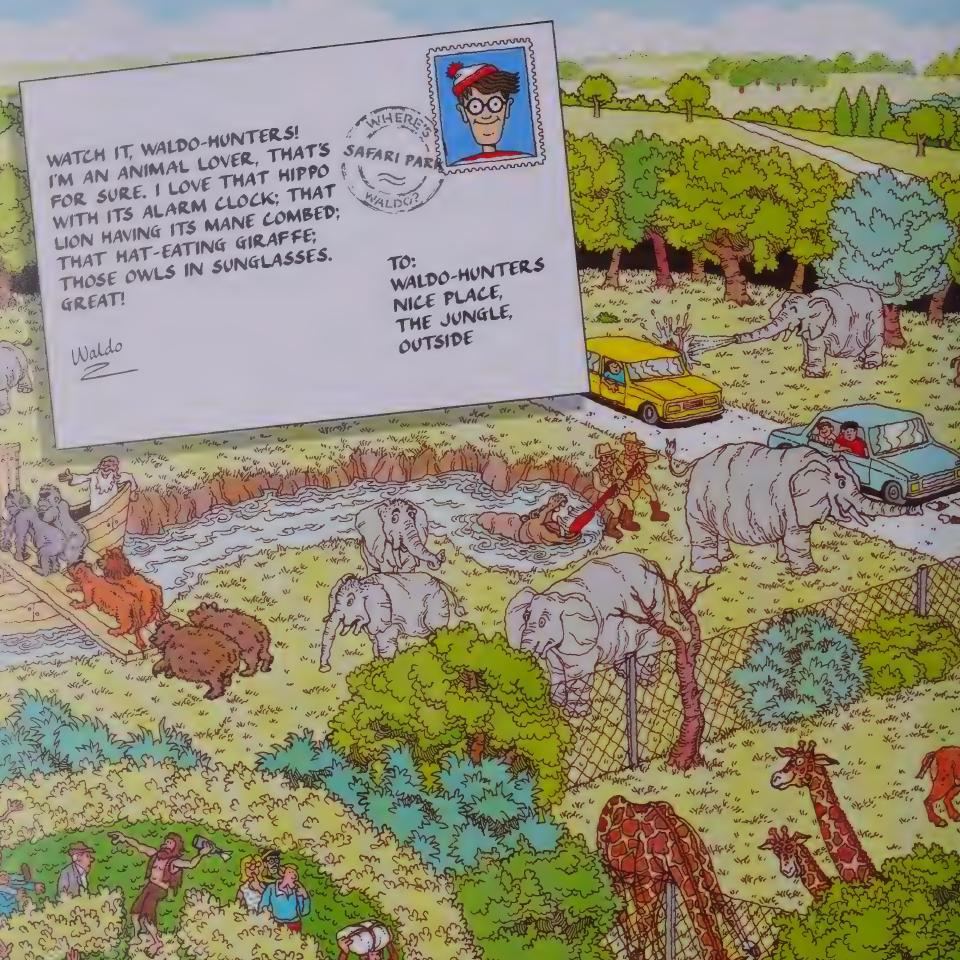waldo: (443, 55, 527, 162)
